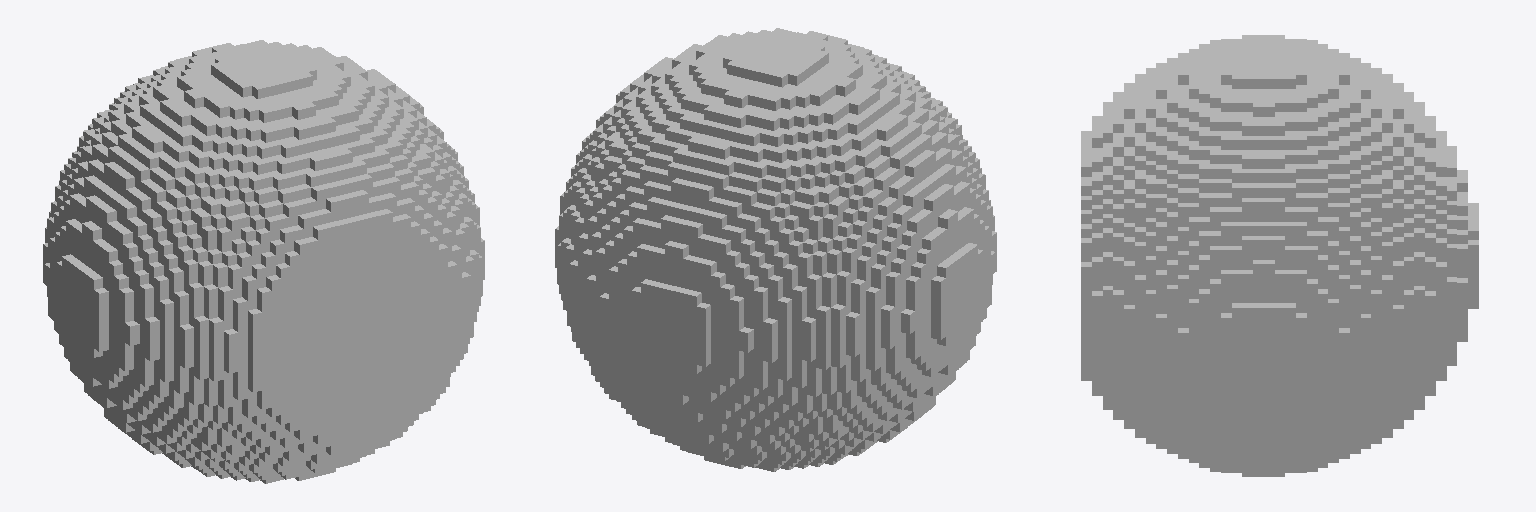
File: smile face ball.obj
3 renders of one model, left to right at view 1: azimuth 30°, elevation 25°; view 2: azimuth 150°, elevation 25°; view 3: azimuth 270°, elevation 25°, orthographic.
Parts seen in each view (by area): view 1: object 1; view 2: object 1; view 3: object 1.
Part boxes in pixels (left/top/right/bottom): object 1: left=43, top=40, right=484, bottom=483; object 1: left=555, top=28, right=996, bottom=471; object 1: left=1081, top=35, right=1478, bottom=476.
Bounding box in the file's own units: 4 × 4 × 3.7.